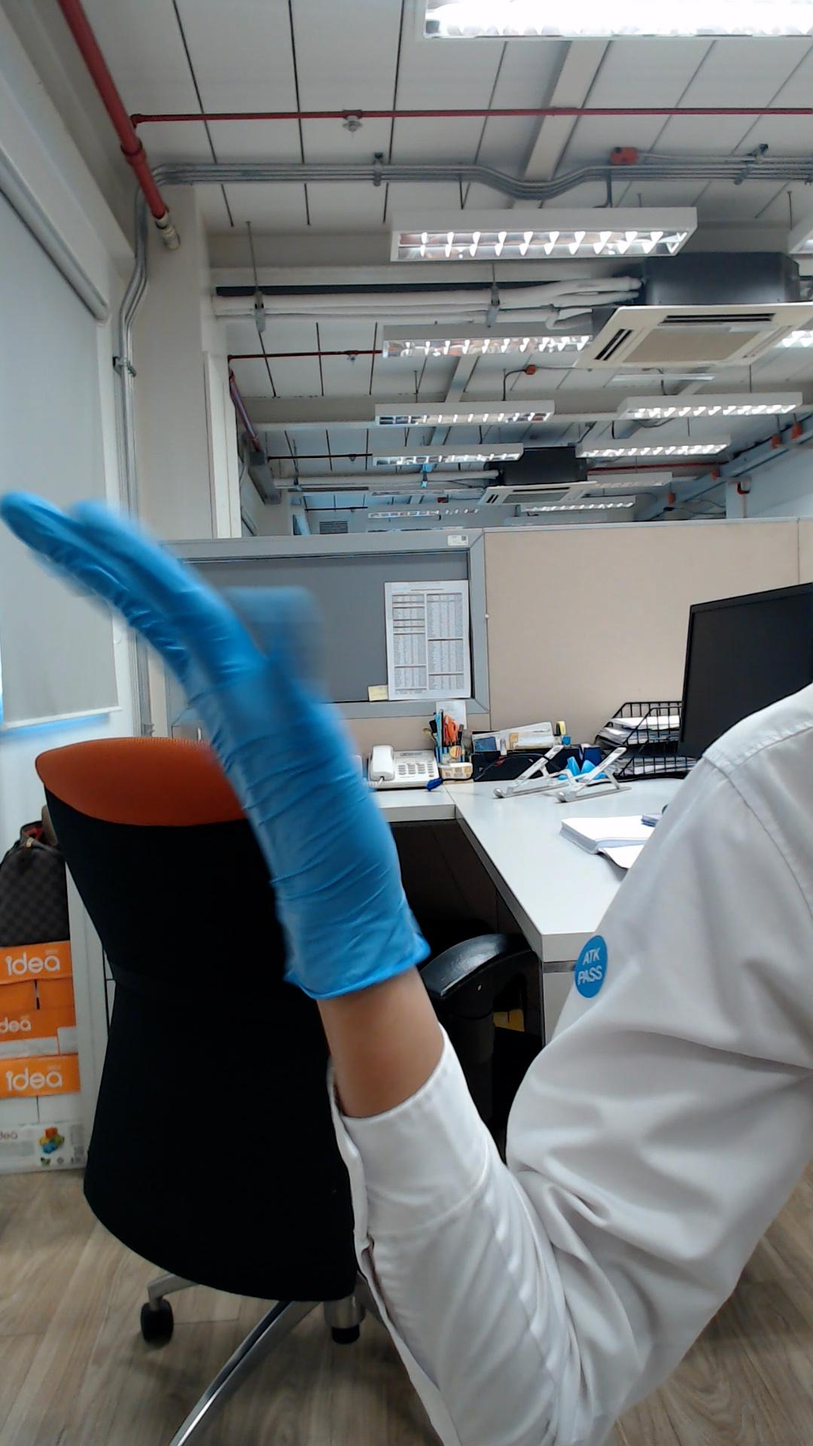gloves: (1, 477, 424, 904)
